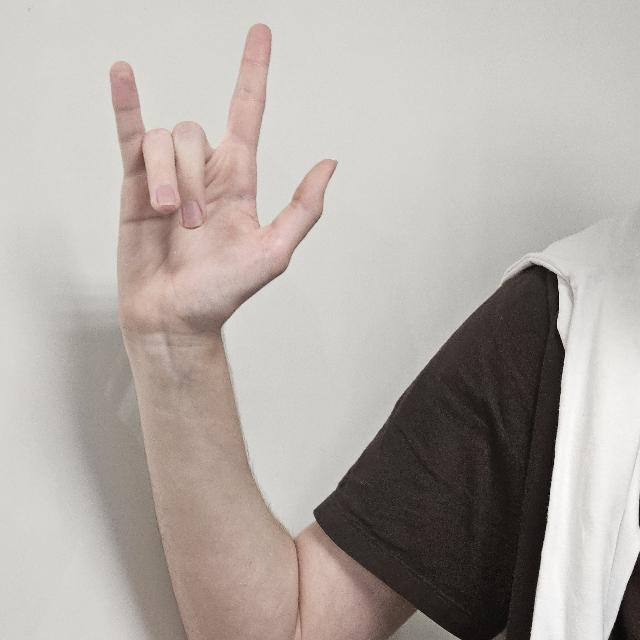Cima: (110, 24, 338, 352)
